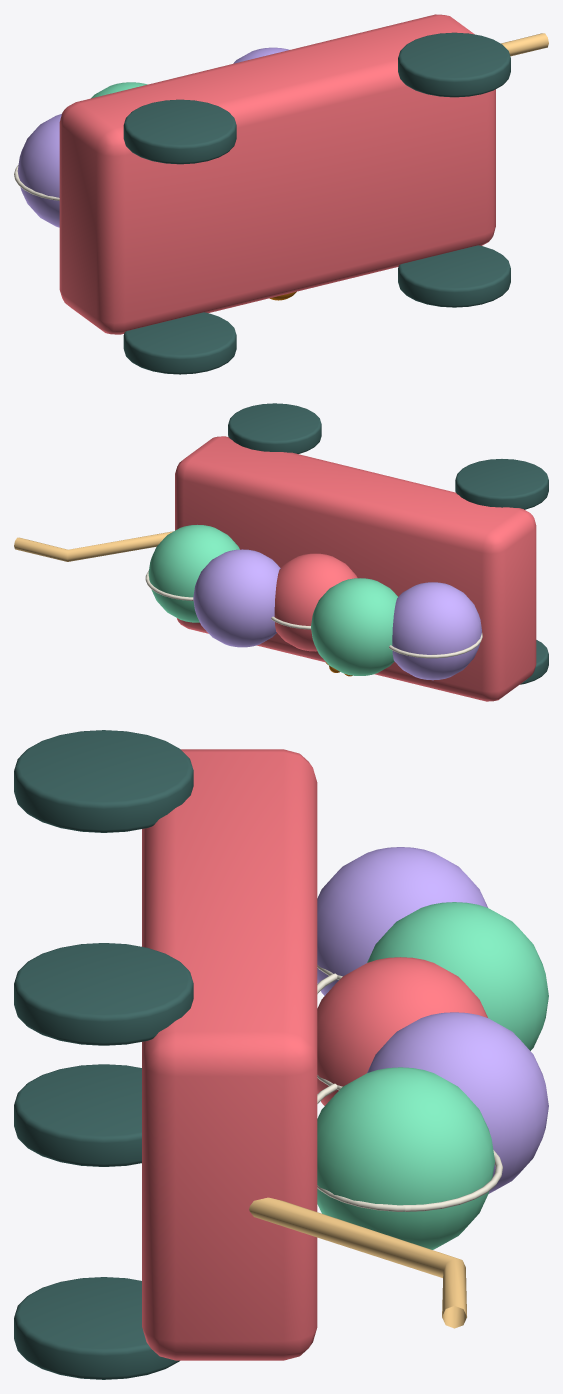
File: BoulevardLandmark5.fbx
The picture shows the model from 3 angles, top to bottom: view 1: azimuth 30°, elevation 25°; view 2: azimuth 150°, elevation 25°; view 3: azimuth 270°, elevation 25°; orthographic projection. The views are drawn at different scales.
Parts seen in each view (by area): view 1: BoulevardLandmark5; view 2: BoulevardLandmark5; view 3: BoulevardLandmark5.
Part boxes in pixels (x1,y1,x2,y2): BoulevardLandmark5: (14, 14, 548, 374); BoulevardLandmark5: (14, 403, 548, 701); BoulevardLandmark5: (14, 730, 548, 1379).
Bounding box in the file's own units: 2.2 × 0.94 × 1.19.
